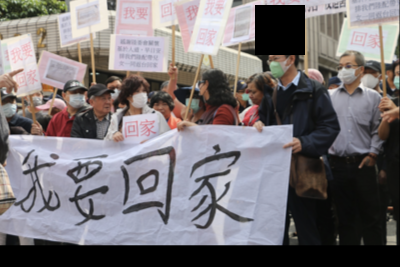with_mask: (336, 61, 360, 85), (266, 54, 287, 79), (361, 68, 380, 89), (130, 87, 148, 109), (67, 90, 86, 109), (184, 93, 202, 113), (0, 99, 17, 120), (26, 90, 44, 109), (106, 84, 123, 101), (196, 81, 207, 104), (393, 70, 400, 89), (240, 89, 250, 102)
without_mask: (94, 93, 113, 115), (153, 100, 170, 120), (248, 88, 262, 107)
